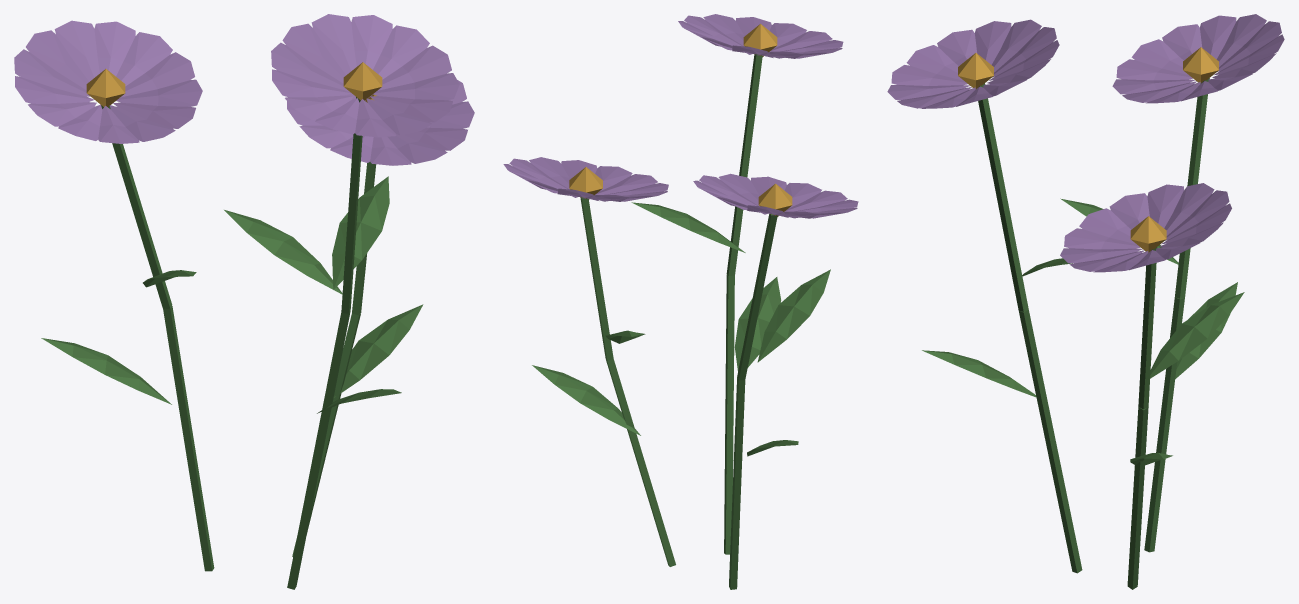
The model's file is flower_autumn_a.glb.
The picture shows the model from 3 angles, left to right: view 1: azimuth 30°, elevation 25°; view 2: azimuth 150°, elevation 25°; view 3: azimuth 270°, elevation 25°; orthographic projection. The views are drawn at different scales.
Visible parts, largest first — view 1: plant; view 2: plant; view 3: plant.
Part boxes in pixels (x1,y1,x2,y2): plant: [14, 14, 474, 589]; plant: [503, 14, 858, 589]; plant: [887, 14, 1284, 589].
Size of the model in its own units: 0.2753 by 0.37 by 0.2469.
